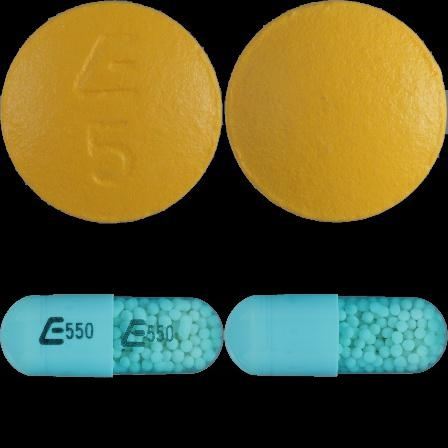0185-0505: (0, 0, 224, 224)
